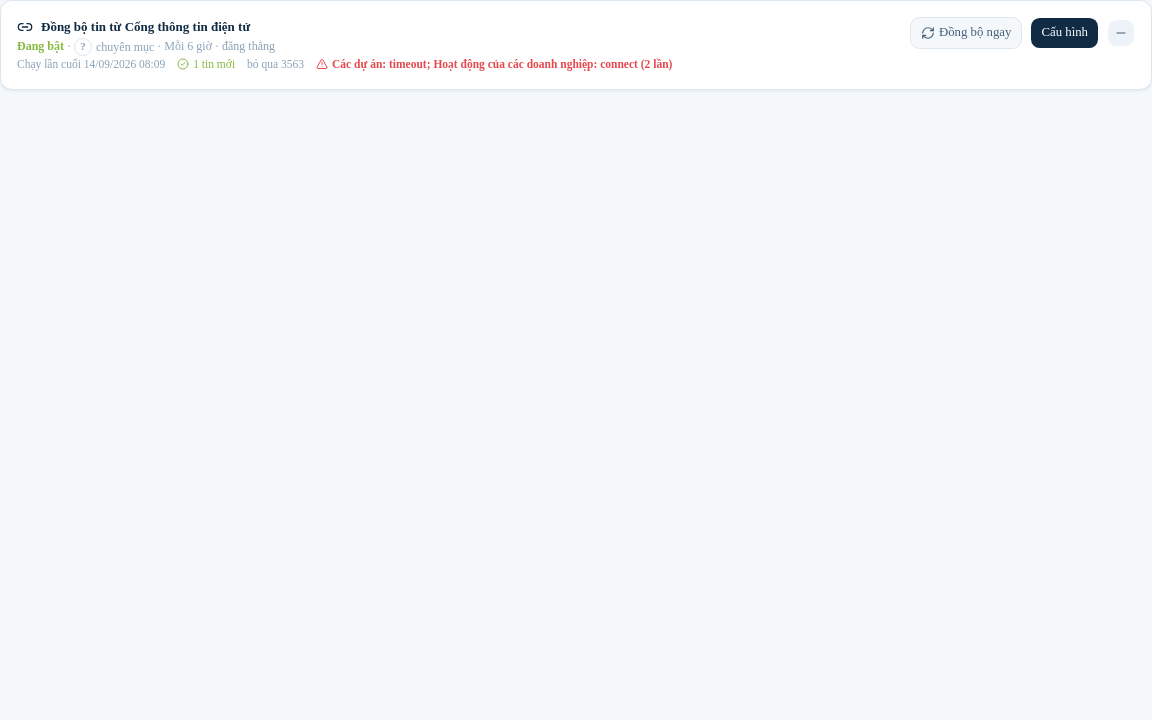
Test: `content.update` gates the two write controls (prototype `ContentSourcePanel canEdit`) › ALLOWED: both are there, and `Cấu hình` opens the settings in an overlay `<dialog>` named by its heading
The width and height of the screenshot is (1152, 720).
Click the button "Cấu hình".
click(1065, 33)  # box [1030,17,1099,49]
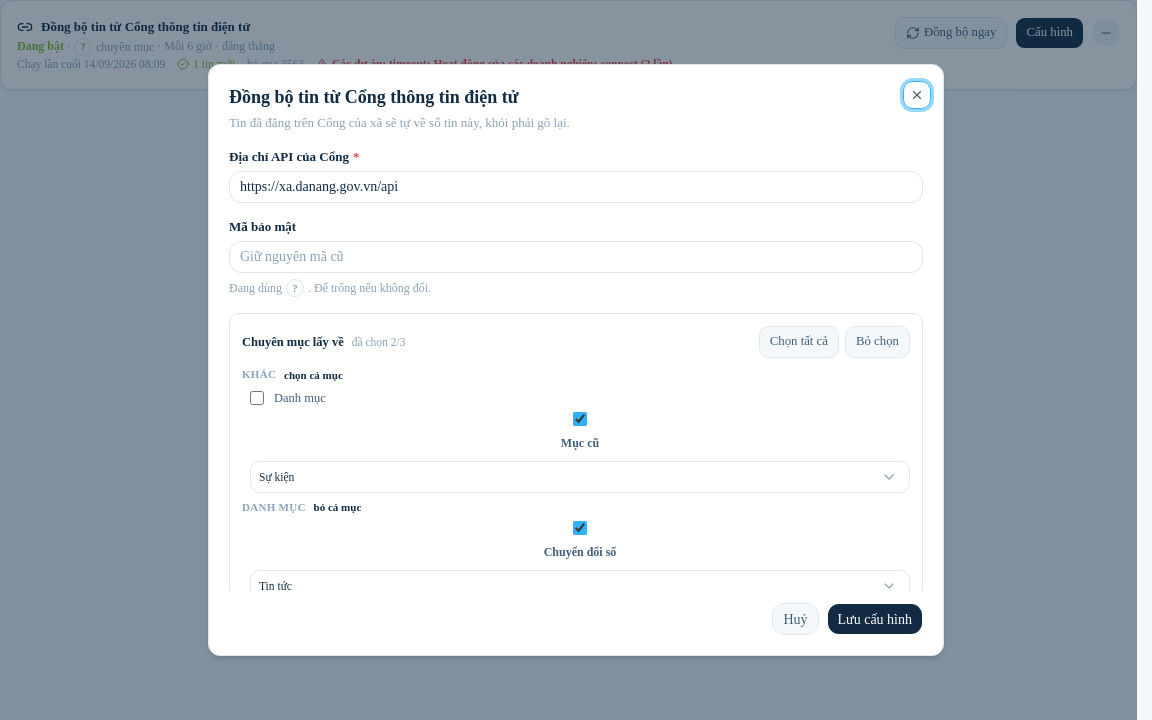
Expected: the heading "Đồng bộ tin từ Cổng thông tin điện tử" is shown, [229,87,519,107]
Expected: the form is shown, [229,85,923,635]
